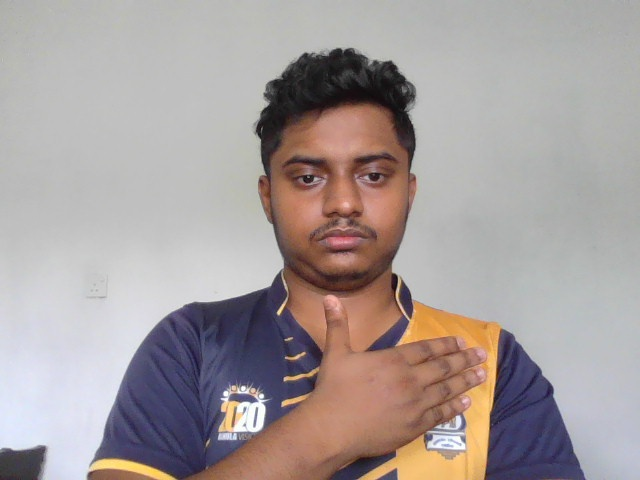Please: (310, 294, 488, 463)
